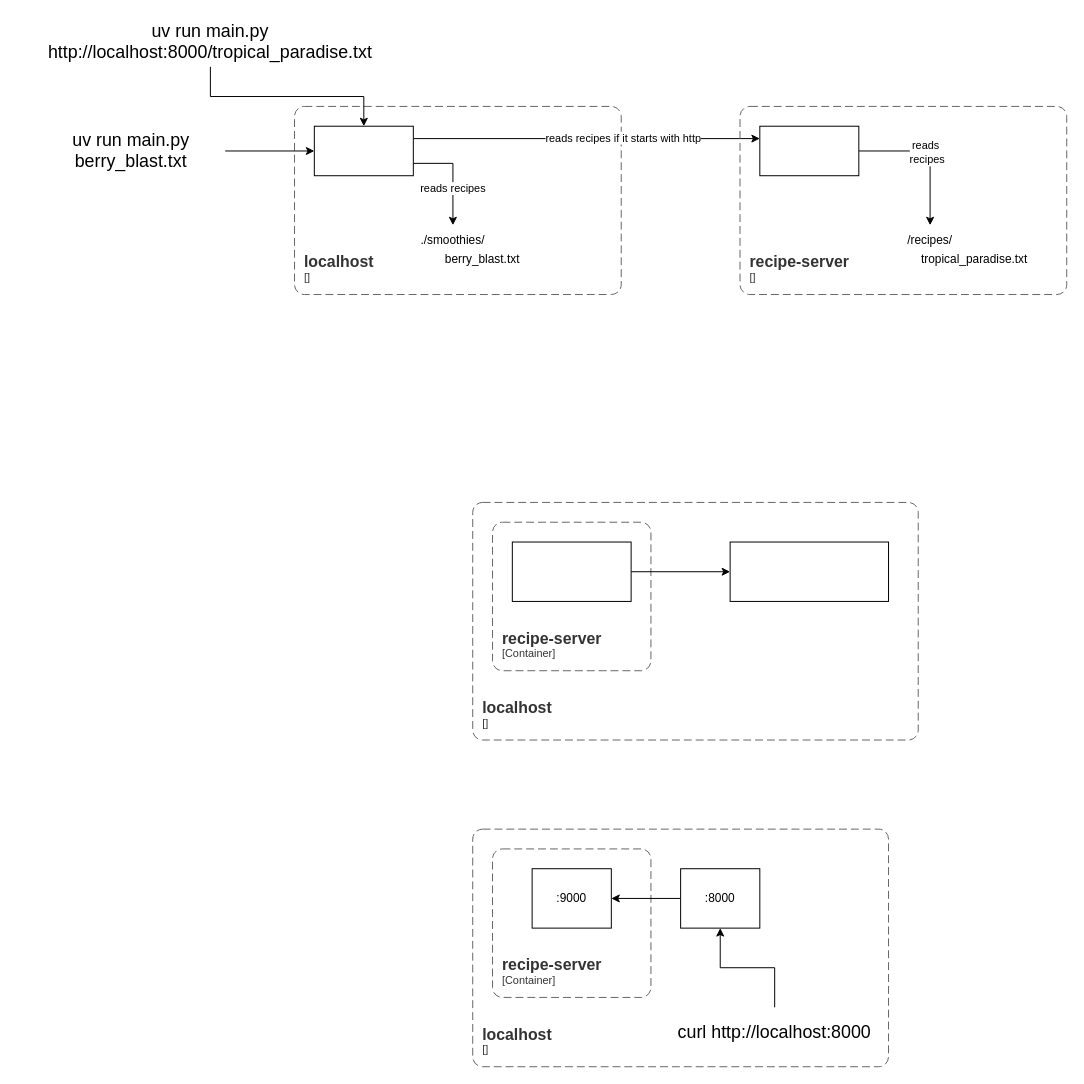
Image size: 1084x1084. Some labels were removed from this diagram. Each missing label, with the centre of its shape:
"/my-dir/smoothie-database" belongs at [809,571].
"/recipes" belongs at [571,571].
"<< Python >> http.server" belongs at [809,150].
"main.py" belongs at [363,150].
